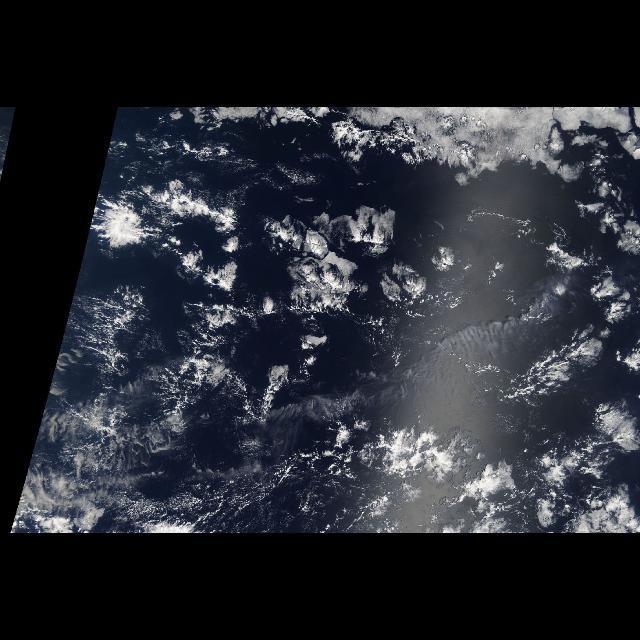Flower: (170, 178, 498, 410), (550, 204, 640, 463), (80, 178, 166, 270)
Gravel: (202, 458, 420, 532)
